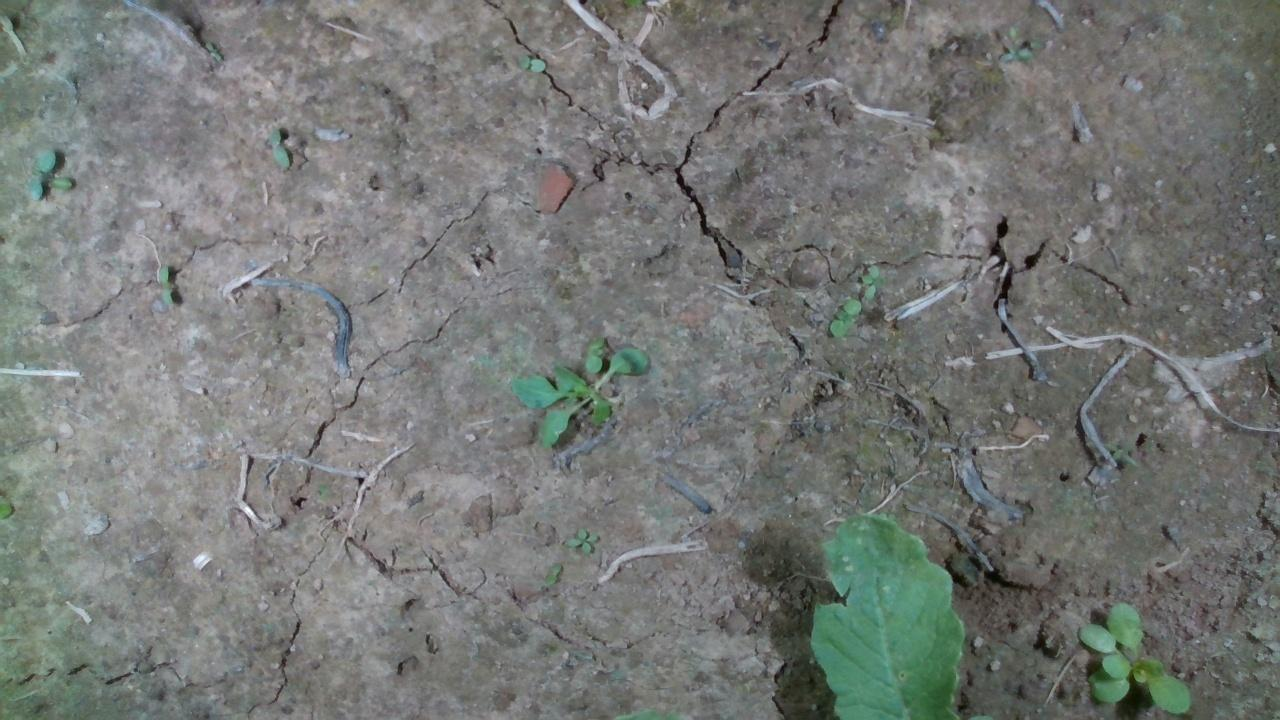weed: (824, 297, 865, 337)
